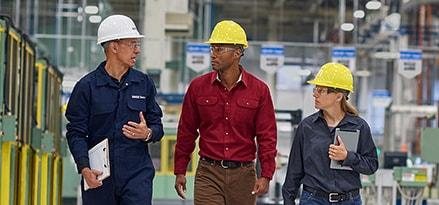helmet: (97, 15, 146, 48), (307, 63, 356, 96), (204, 20, 251, 51)
